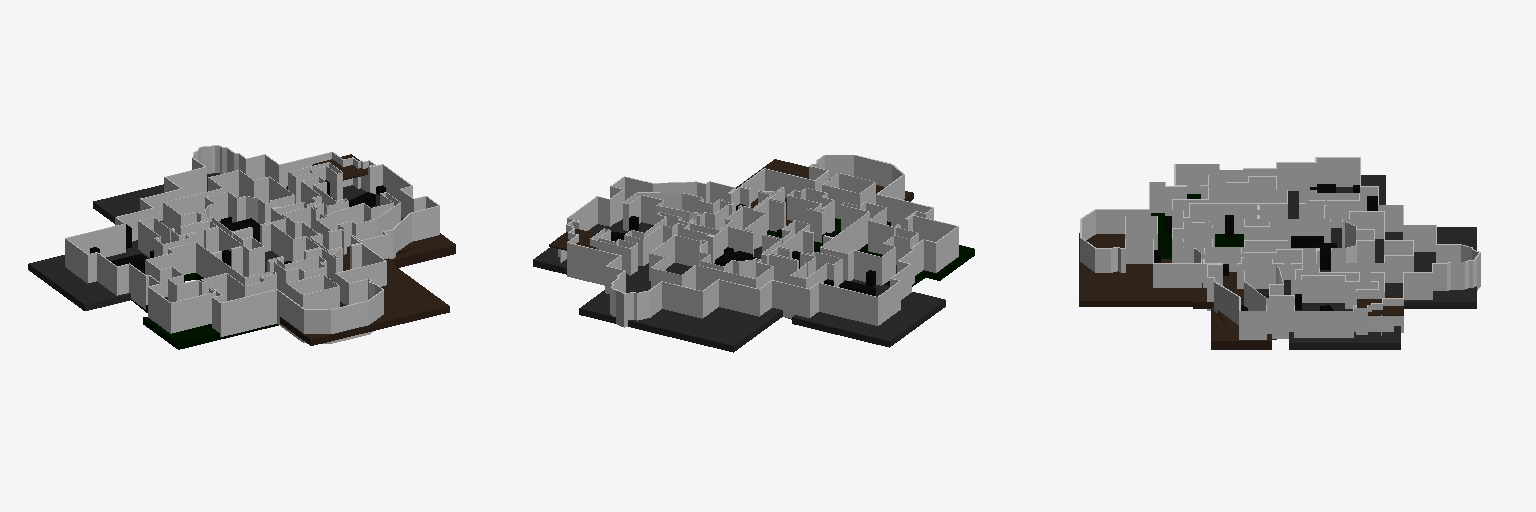
The model's file is Heaven.obj.
3 views of the same model, side by side, from view 1: azimuth 30°, elevation 25°; view 2: azimuth 150°, elevation 25°; view 3: azimuth 270°, elevation 25° (orthographic).
Visible parts, largest first — view 1: Cube_Cube.011, Cube.002_Cube.021, Cube.005_Cube.024, Cube.004_Cube.023, Cube.001_Cube.020, Cube.008_Cube.027; view 2: Cube_Cube.011, Cube.004_Cube.023, Cube.005_Cube.024, Cube.001_Cube.020, Cube.002_Cube.021; view 3: Cube_Cube.011, Cube.004_Cube.023, Cube.002_Cube.021, Cube.008_Cube.027, Cube.001_Cube.020, Cube.005_Cube.024.
Boxes of the visible parts, box(x1,y1,x2,y2) form: Cube_Cube.011: box(65, 145, 439, 343); Cube.002_Cube.021: box(280, 241, 449, 345); Cube.005_Cube.024: box(28, 245, 184, 310); Cube.004_Cube.023: box(93, 173, 402, 272); Cube.001_Cube.020: box(131, 273, 278, 349); Cube.008_Cube.027: box(391, 233, 455, 267); Cube_Cube.011: box(566, 155, 958, 327); Cube.004_Cube.023: box(533, 219, 791, 352); Cube.005_Cube.024: box(792, 265, 945, 347); Cube.001_Cube.020: box(767, 218, 974, 286); Cube.002_Cube.021: box(736, 159, 913, 225); Cube_Cube.011: box(1080, 157, 1480, 339); Cube.004_Cube.023: box(1272, 227, 1476, 349); Cube.002_Cube.021: box(1079, 233, 1243, 326); Cube.008_Cube.027: box(1211, 307, 1271, 349); Cube.001_Cube.020: box(1151, 194, 1243, 258); Cube.005_Cube.024: box(1288, 175, 1385, 218).
Size of the model in its own units: 112 by 15.24 by 111.